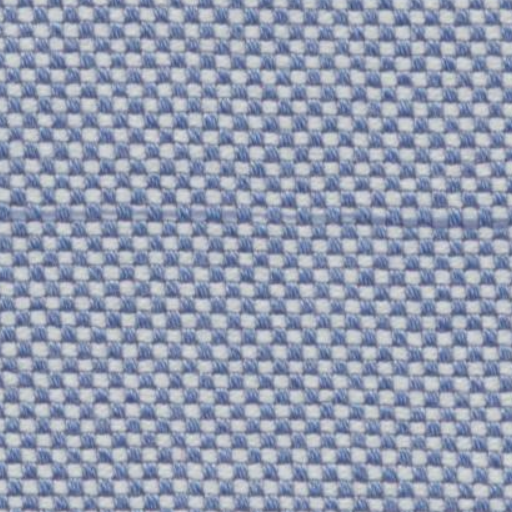TuoSha: (7, 189, 499, 253)
